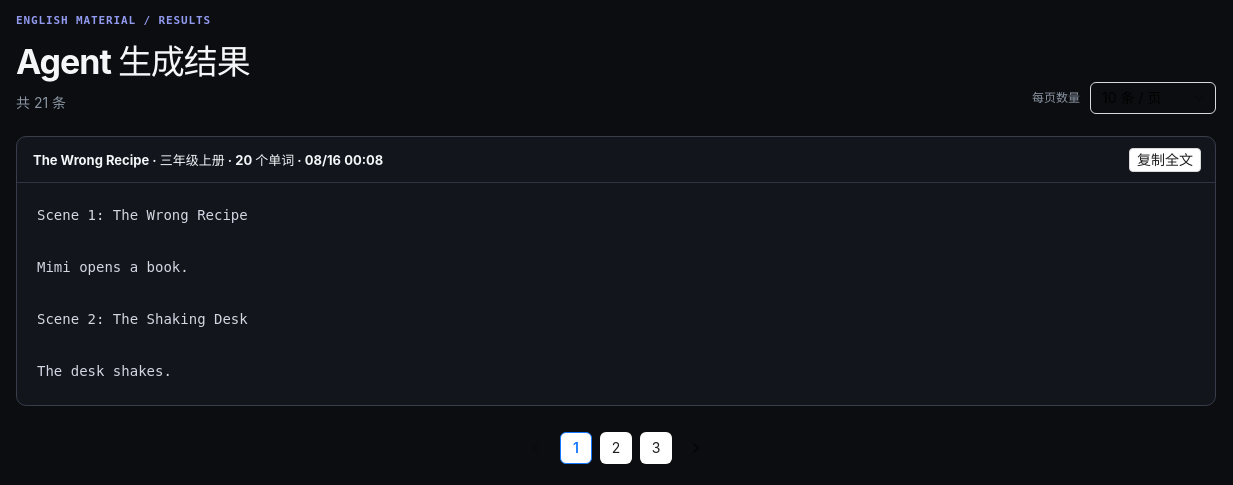
AgentGeneratedResultsPage › discards a late response from an older page request
The image size is (1233, 485).
Check: the heading "The Wrong Recipe · 三年级上册 · 20 个单词 · 08/16 00:08" is shown, box [33, 150, 383, 170]
Click the list item titled "2" at (616, 448), box [600, 432, 632, 464]
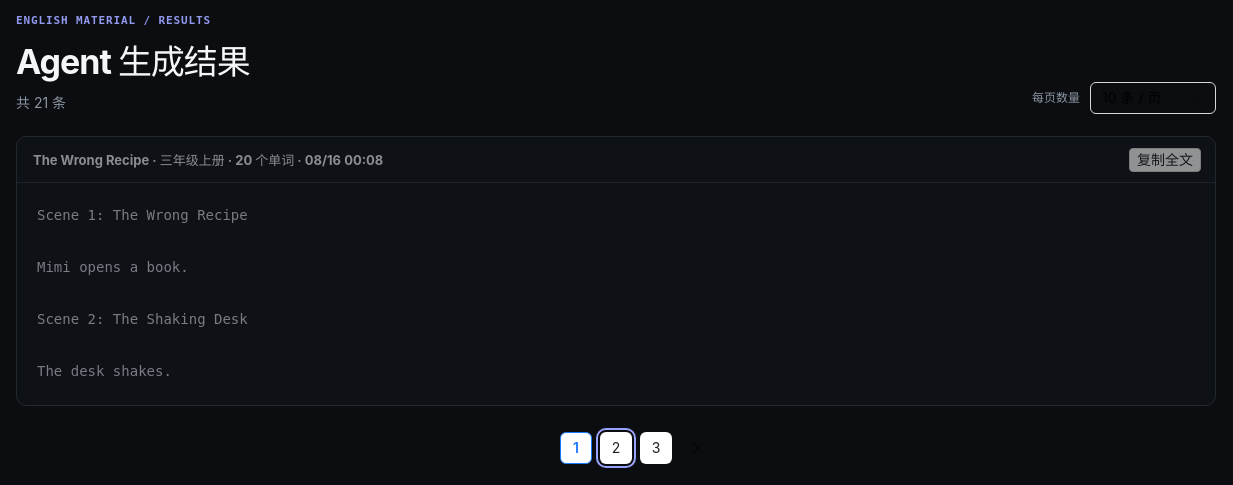
Click the list item titled "3" at (656, 448), box [640, 432, 672, 464]
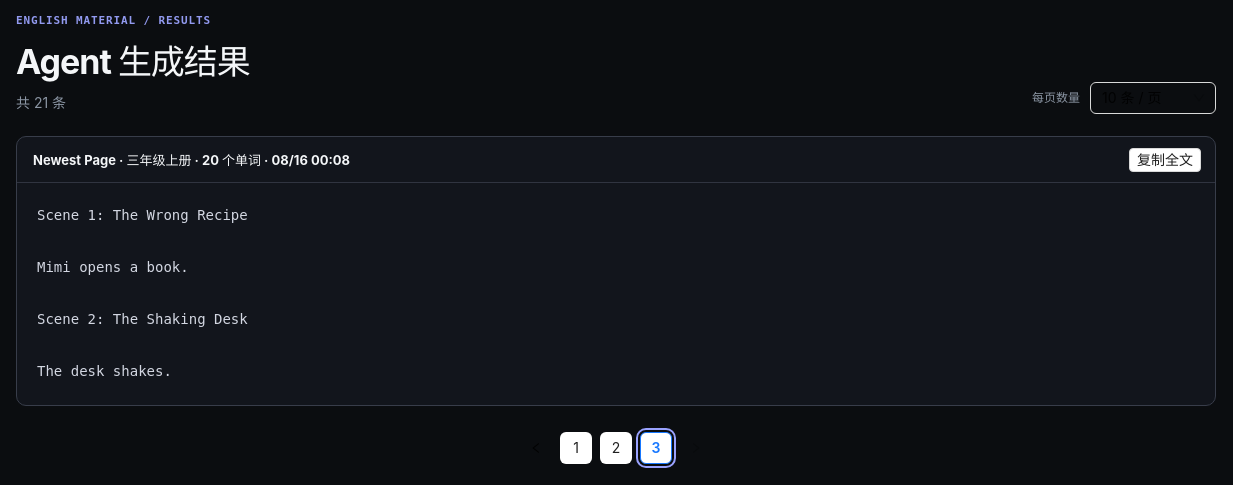
Check: the heading "Newest Page · 三年级上册 · 20 个单词 · 08/16 00:08" is shown, box [33, 150, 350, 170]
